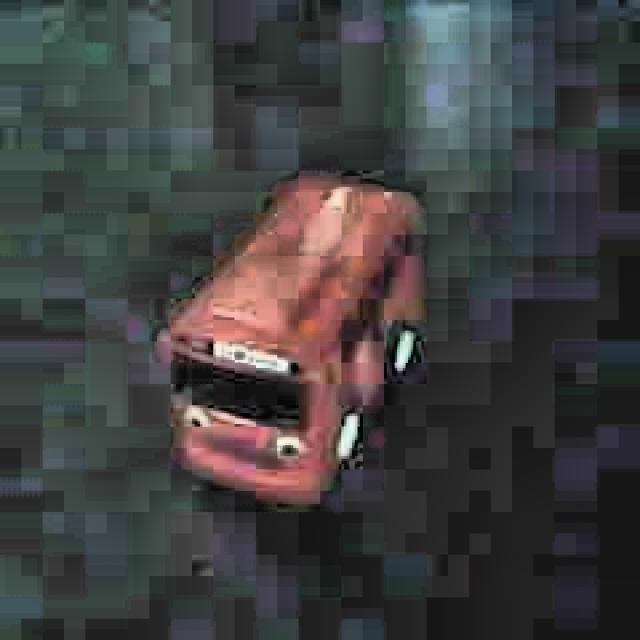bus: (156, 173, 425, 512)
